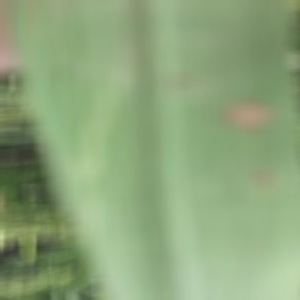Brown_Spot: (215, 74, 281, 137)
